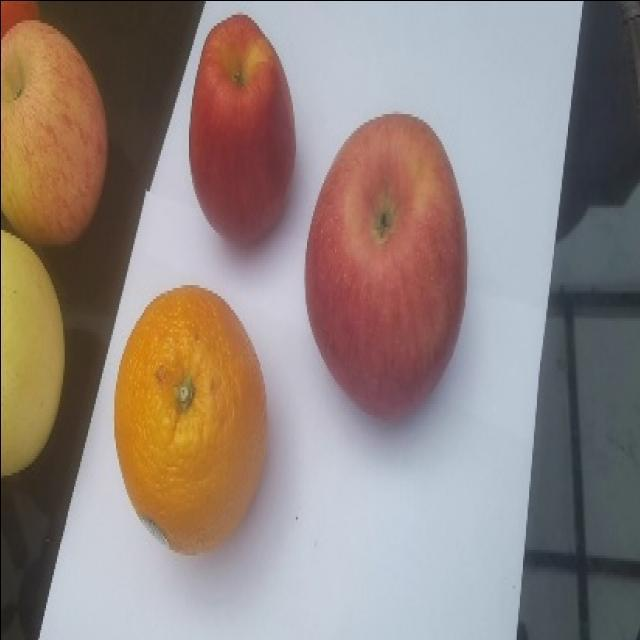Apple: (304, 111, 470, 422), (189, 12, 299, 242), (0, 16, 102, 247)
Orange: (112, 285, 267, 561)
